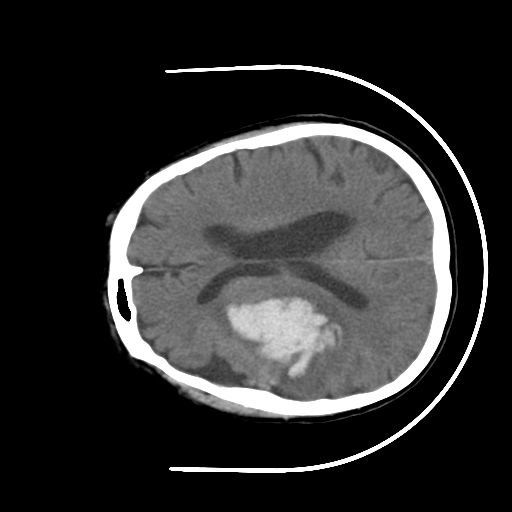a: (207, 280, 353, 403)
